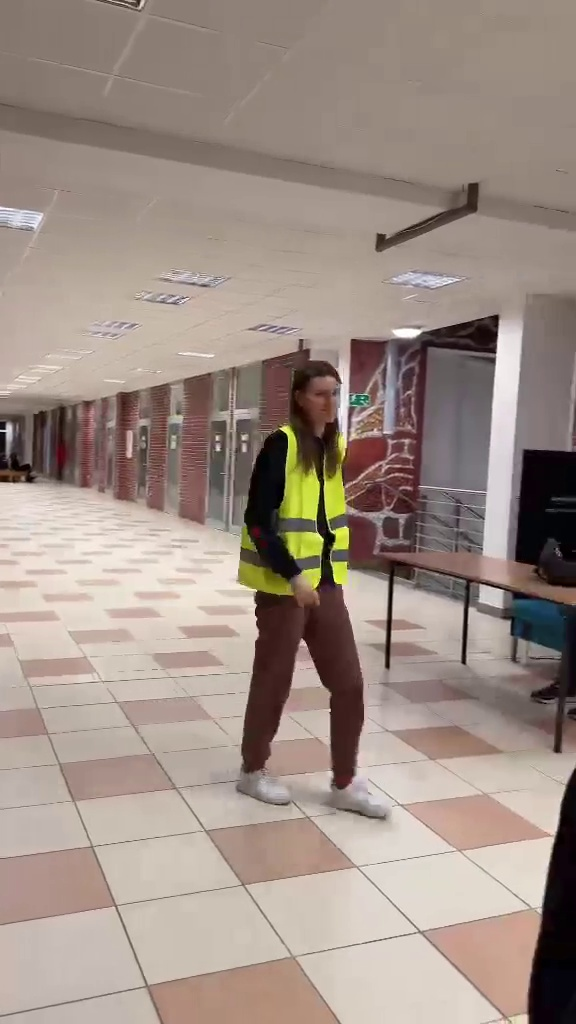vest: (244, 355, 392, 824)
